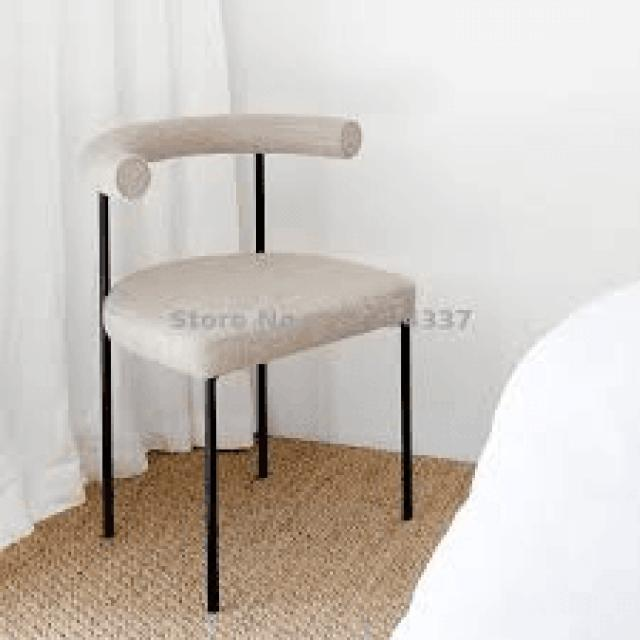chair: (73, 106, 420, 619), (74, 116, 428, 352)
